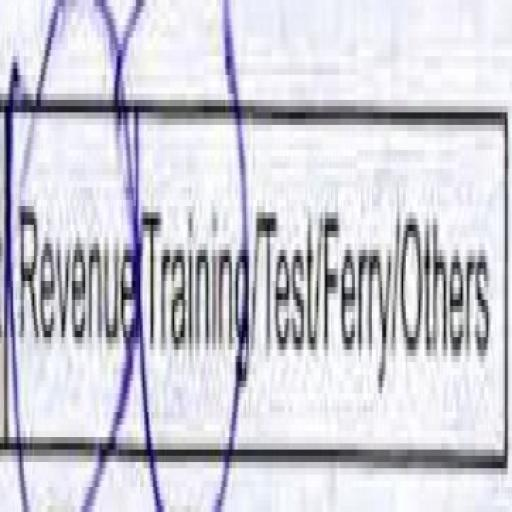check: (0, 0, 139, 512), (142, 0, 252, 512)
